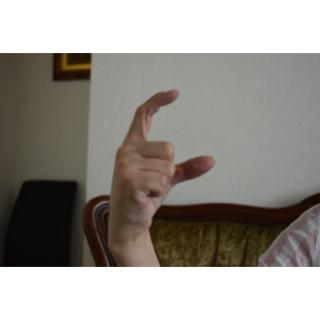DELL: (104, 85, 218, 238)
